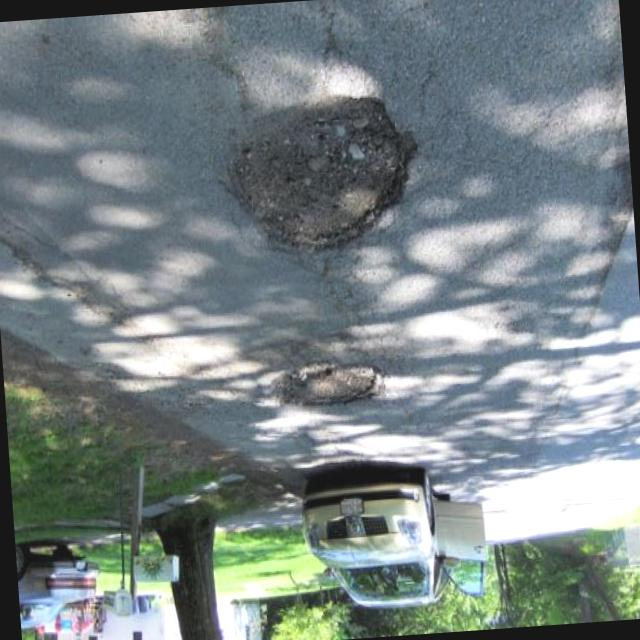pothole: (212, 88, 429, 264), (267, 352, 385, 418)
